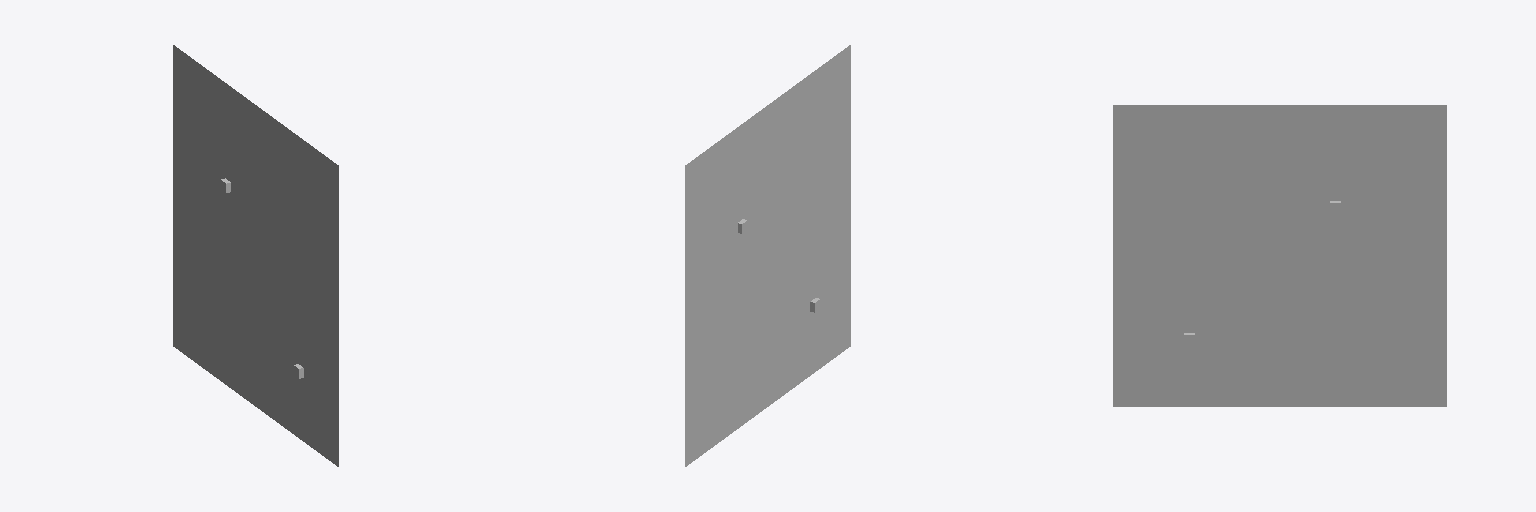
The model's file is shooter.obj.
3 views of the same model, side by side, from view 1: azimuth 30°, elevation 25°; view 2: azimuth 150°, elevation 25°; view 3: azimuth 270°, elevation 25° (orthographic).
Visible parts, largest first — view 1: solid_1_Plane, ignore_background_Plane.001; view 2: solid_1_Plane, ignore_background_Plane.001; view 3: solid_1_Plane, ignore_background_Plane.001.
Part boxes in pixels (x1,y1,x2,y2): solid_1_Plane: (173,45,338,466); ignore_background_Plane.001: (180,91,325,418); solid_1_Plane: (685,45,850,466); ignore_background_Plane.001: (692,131,837,352); solid_1_Plane: (1113,105,1446,406); ignore_background_Plane.001: (1140,118,1432,382).
Bounding box in the file's own units: 0.02 × 0.6096 × 0.6096.